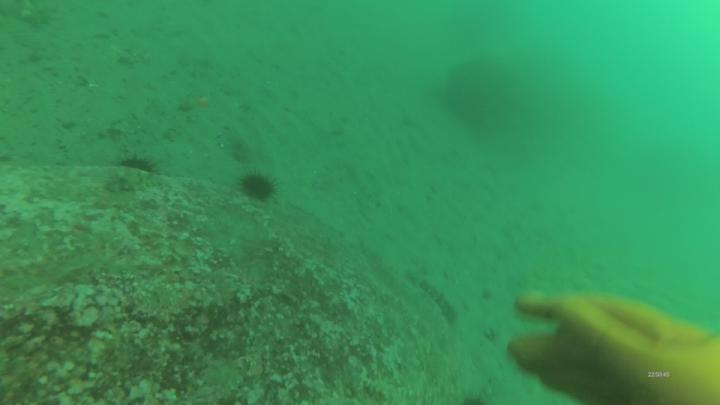echinus: (238, 167, 281, 206), (117, 150, 165, 176)
holothurian: (404, 272, 463, 331)
